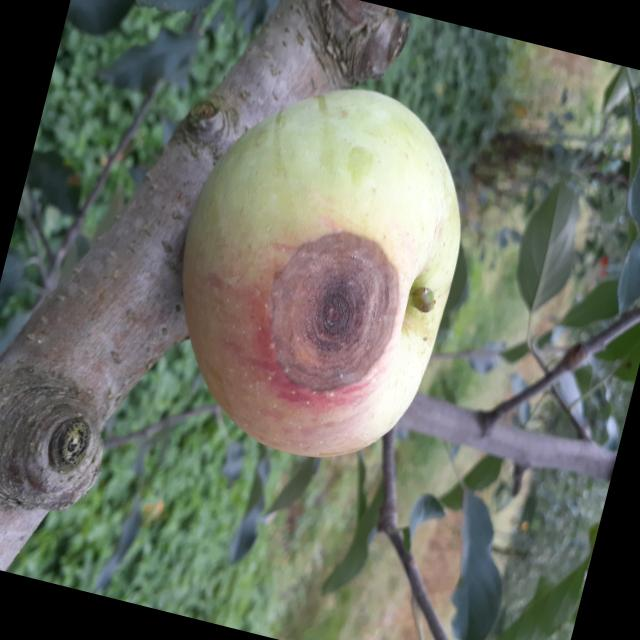rotten: (131, 44, 505, 498)
